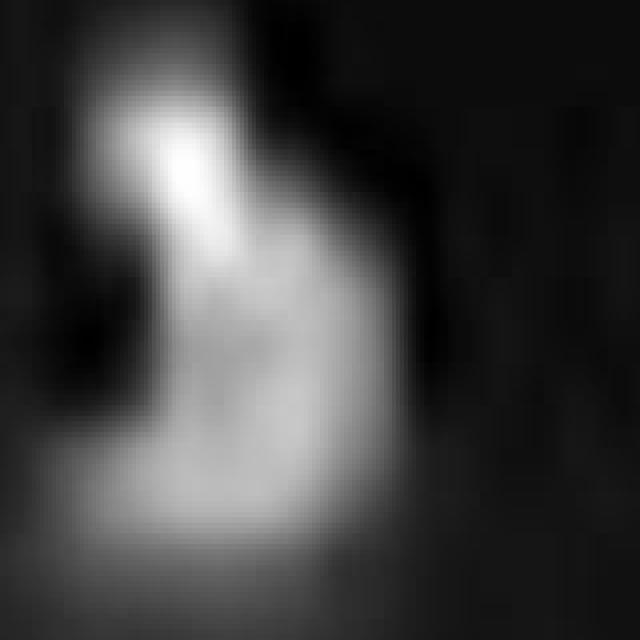person: (65, 1, 421, 598)
